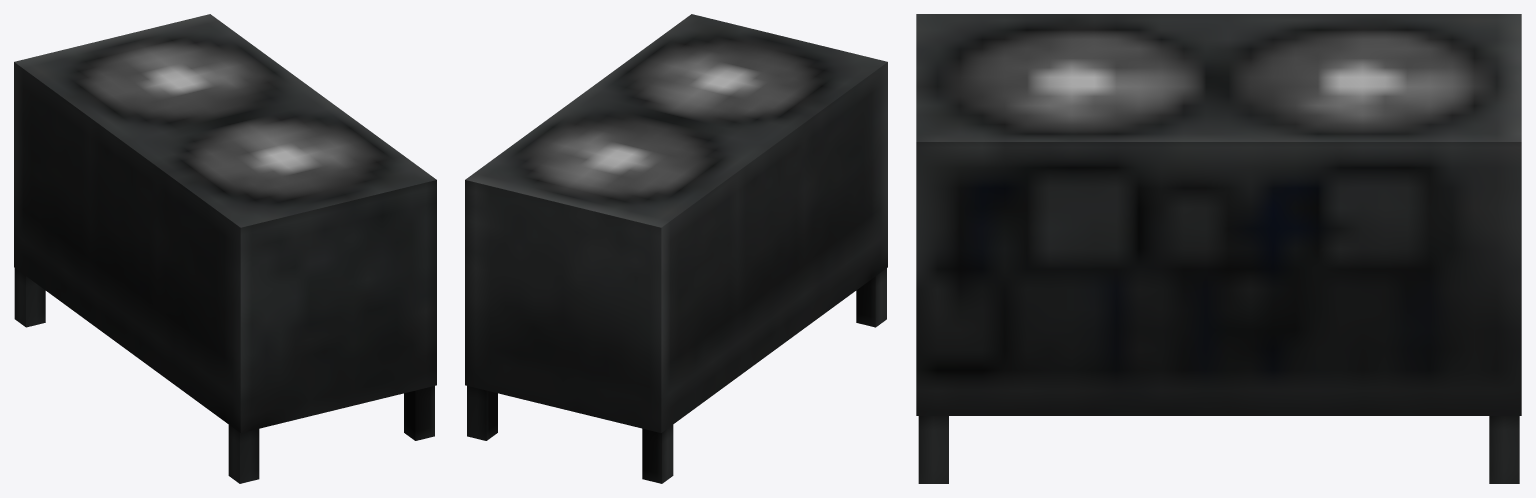
File: Roof_AirCondisator.FBX
3 renders of one model, left to right at view 1: azimuth 30°, elevation 25°; view 2: azimuth 150°, elevation 25°; view 3: azimuth 270°, elevation 25°, orthographic. The views are drawn at different scales.
Parts seen in each view (by area): view 1: Roof_AirCondisator; view 2: Roof_AirCondisator; view 3: Roof_AirCondisator.
Part boxes in pixels (x1,y1,x2,y2): Roof_AirCondisator: (14,14,436,483); Roof_AirCondisator: (465,14,887,483); Roof_AirCondisator: (916,14,1521,483).
Bounding box in the file's own units: 2 × 2.5 × 4.
